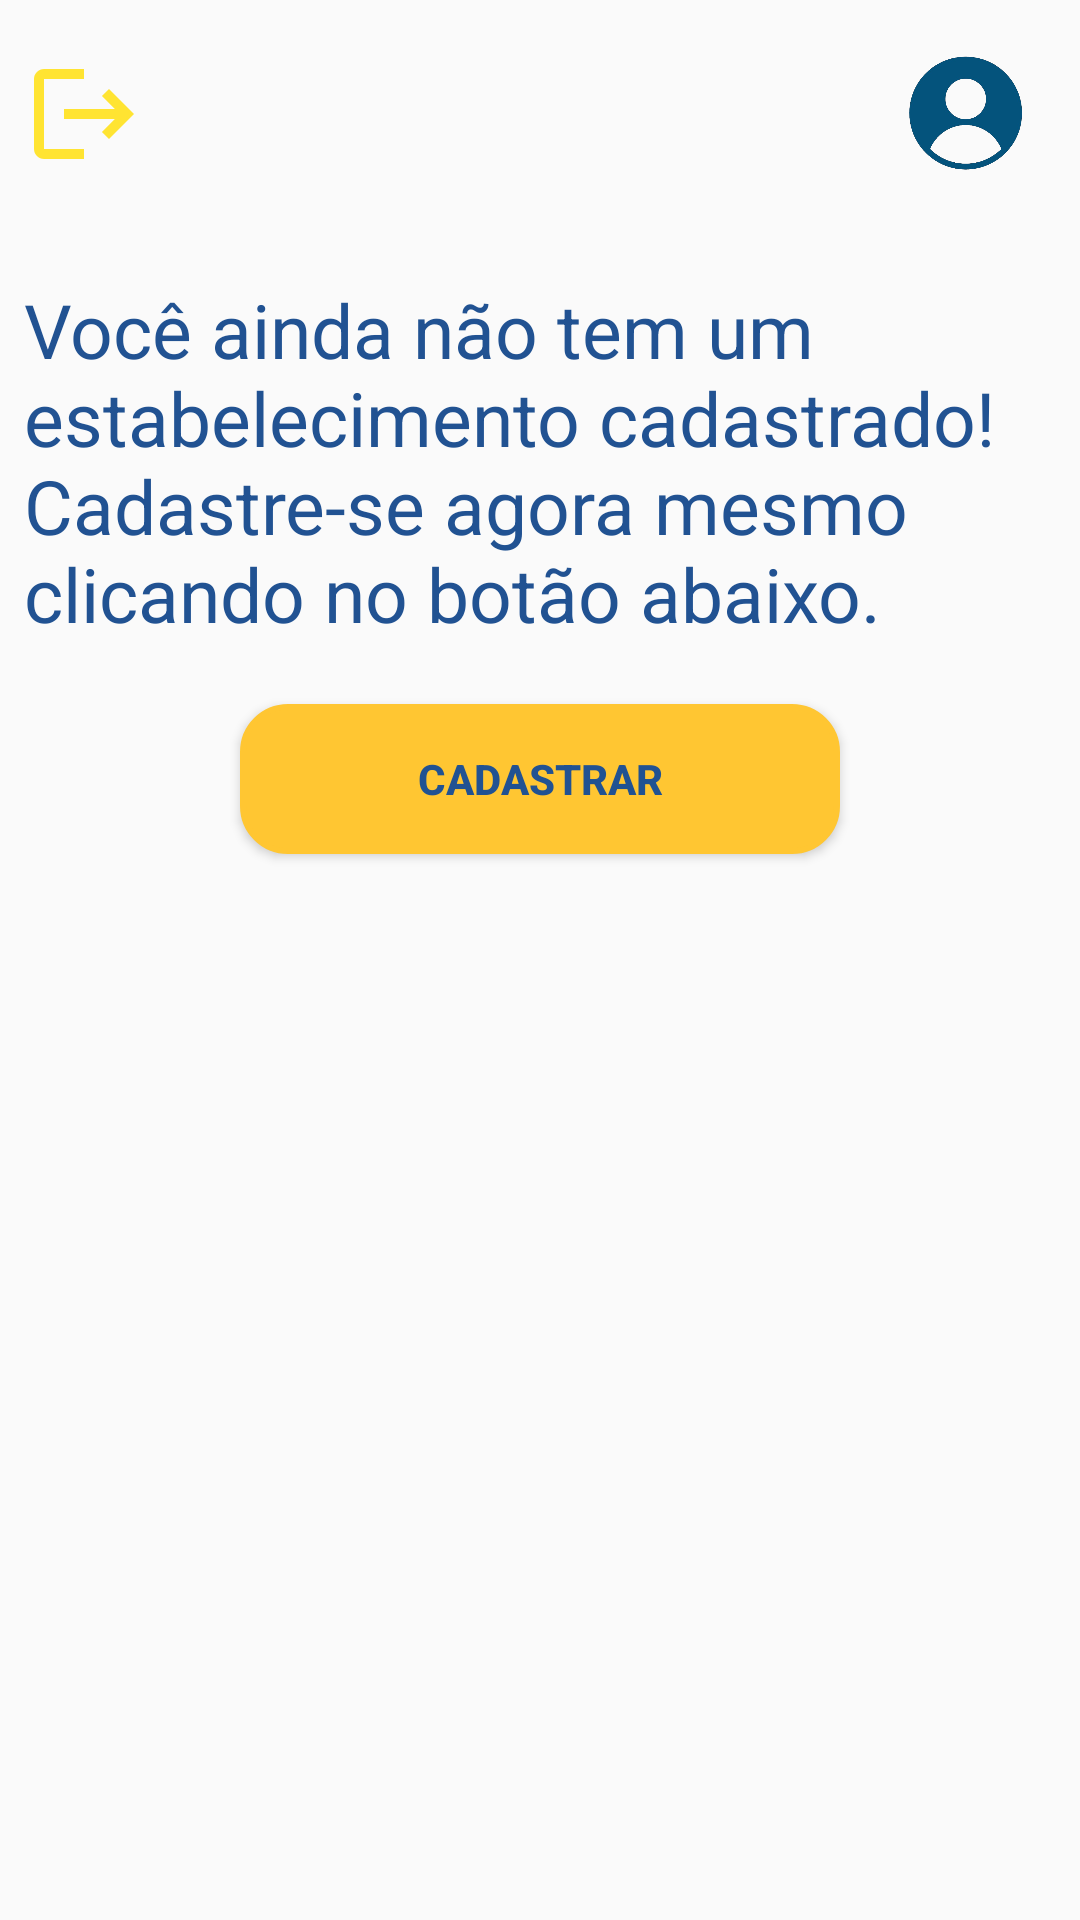

Screen size 1080 x 1920. Icon name, then its center in pixels as (x=x, y=y):
perfil: (x=965, y=113)
